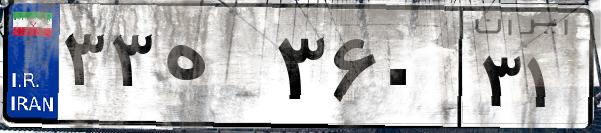0: (385, 28, 445, 110)
1: (525, 38, 570, 115)
3: (270, 28, 330, 110), (57, 26, 110, 100), (475, 38, 525, 113), (110, 28, 158, 98)
6: (330, 28, 385, 110)
ه: (158, 20, 270, 120)
